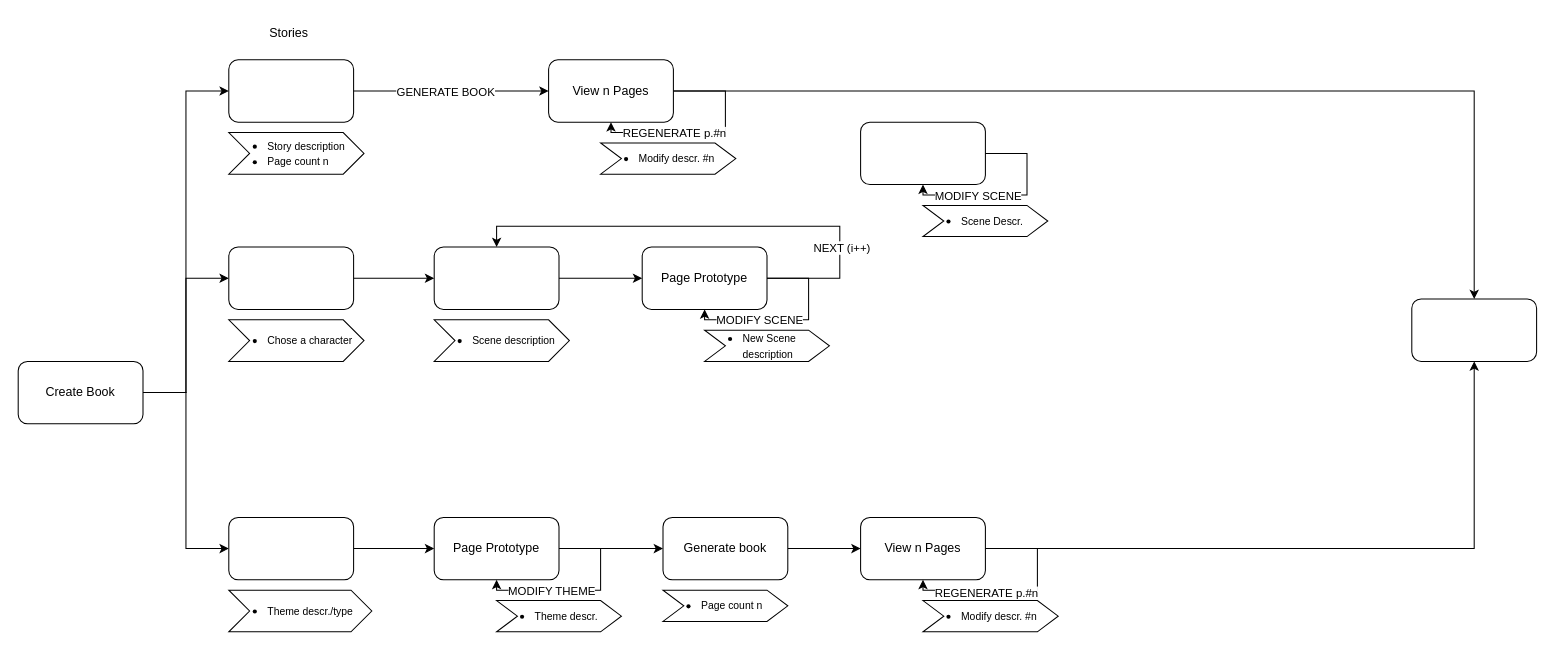
The diagram is 1555 pixels wide and 653 high, and some of its shapes have lost their labels. The shapes that lost their labels are listed below. From the top down, each one's centre as x and y in pixels, then its label:
[291,90]: Write your own Story
[922,153]: Story Prototype (n_Scenes)
[291,277]: Create story together
[496,277]: Create scene i
[1474,329]: DONE
[291,548]: Chose a theme
